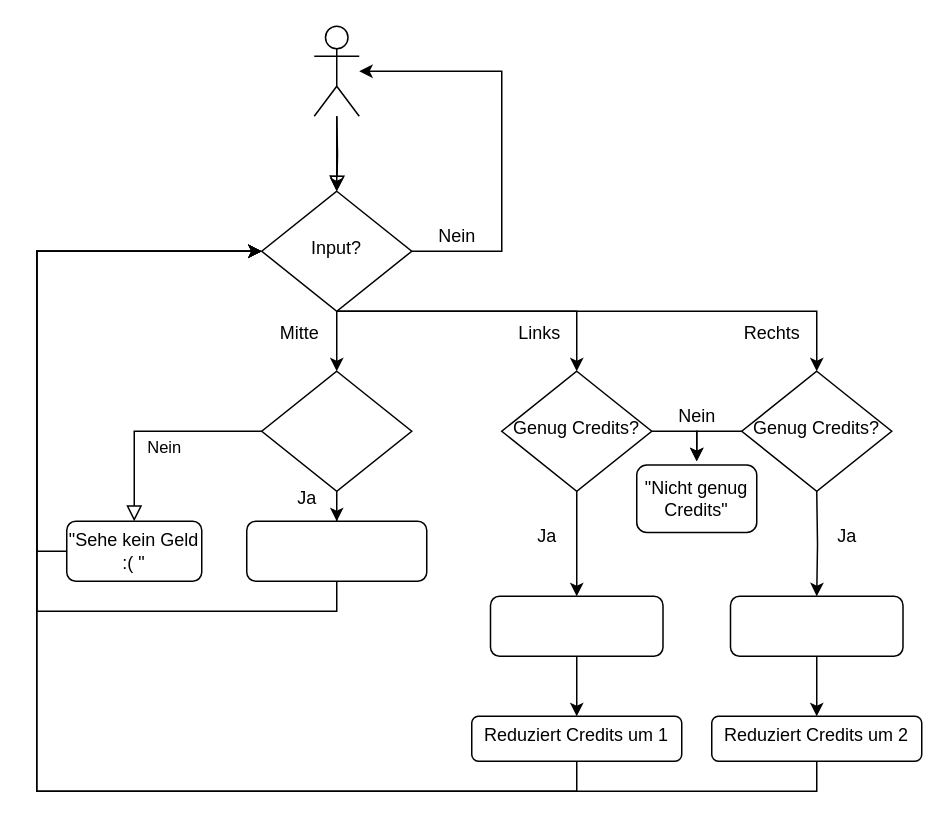
The diagram is 948 pixels wide and 830 high, and some of its shapes have lost their labels. Here are the shapes that lost their labels. From the top down, the centre of each, then its label:
[336,430]: Sieht Sensor Geld?
[336,550]: Gibt entsprechend Credits
[576,625]: Gibt süßes vom linken Vorrat
[816,625]: Gibt süßes vom rechten Vorrat
